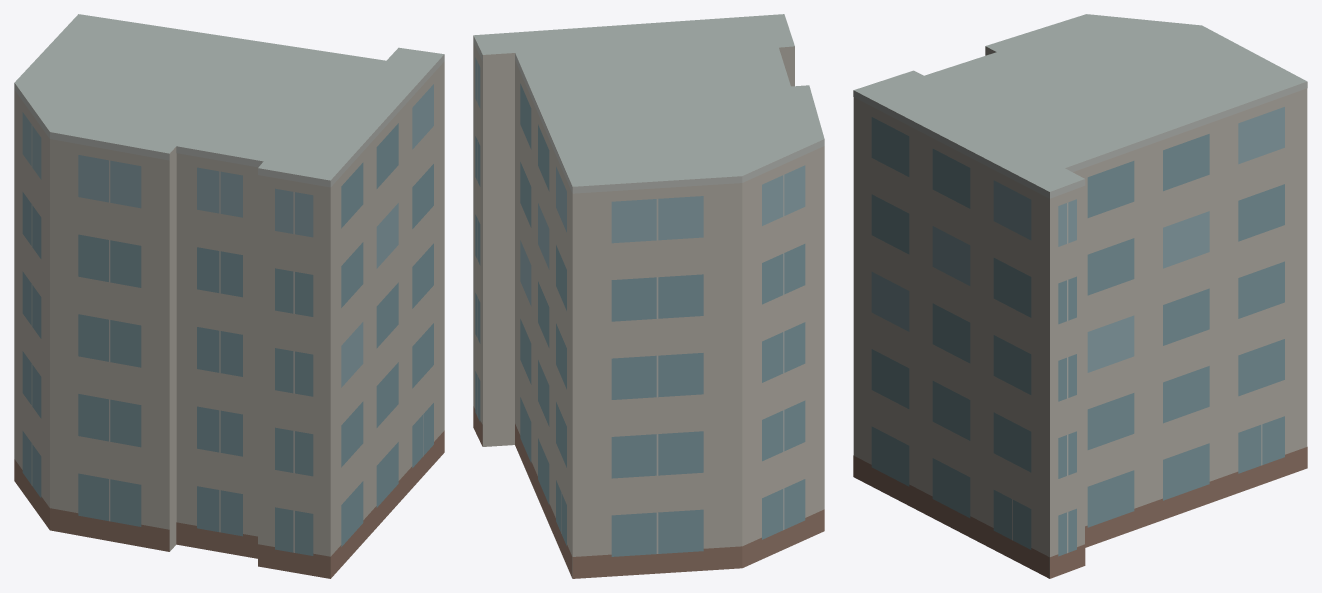
The model's file is survey-upis-32745583.glb.
3 views of the same model, side by side, from view 1: azimuth 30°, elevation 25°; view 2: azimuth 150°, elevation 25°; view 3: azimuth 270°, elevation 25° (orthographic). The views are drawn at different scales.
Visible parts, largest first — view 1: survey-upis-32745583.tmp; view 2: survey-upis-32745583.tmp; view 3: survey-upis-32745583.tmp.
Part boxes in pixels (bbox=[...]): survey-upis-32745583.tmp: bbox=[14, 14, 444, 578]; survey-upis-32745583.tmp: bbox=[473, 14, 824, 578]; survey-upis-32745583.tmp: bbox=[853, 14, 1307, 578].
Size of the model in its own units: 13.83 by 14 by 14.9.
